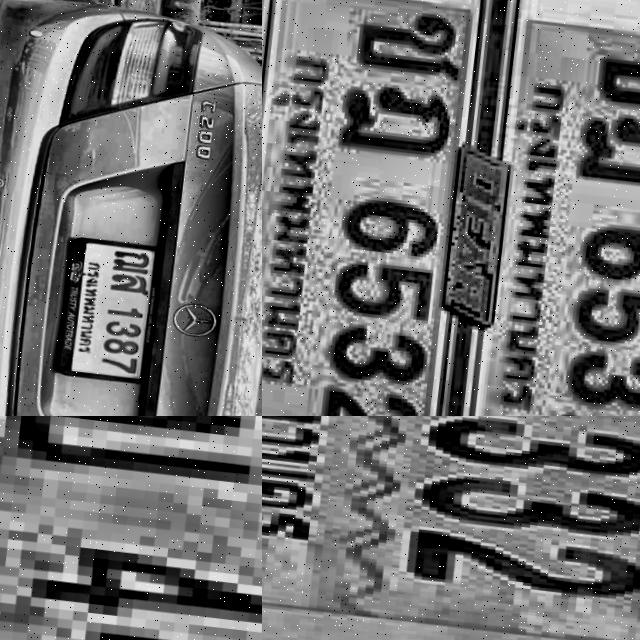license-plate: (262, 0, 505, 416), (262, 416, 640, 640), (446, 0, 640, 416), (0, 416, 262, 640), (51, 232, 166, 386)
